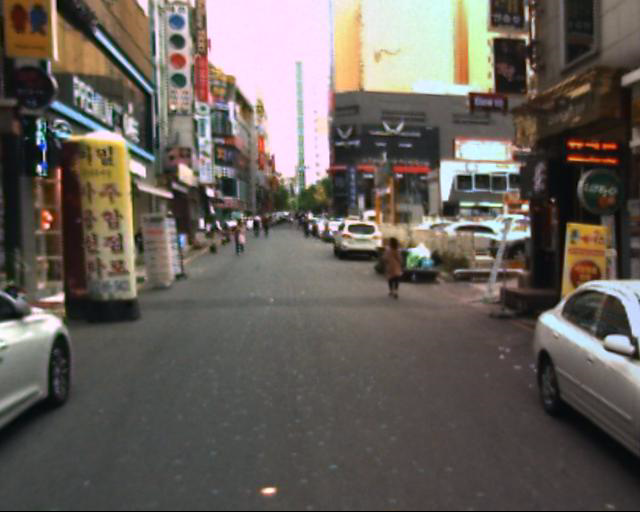person: (376, 231, 408, 317), (232, 209, 257, 265)
